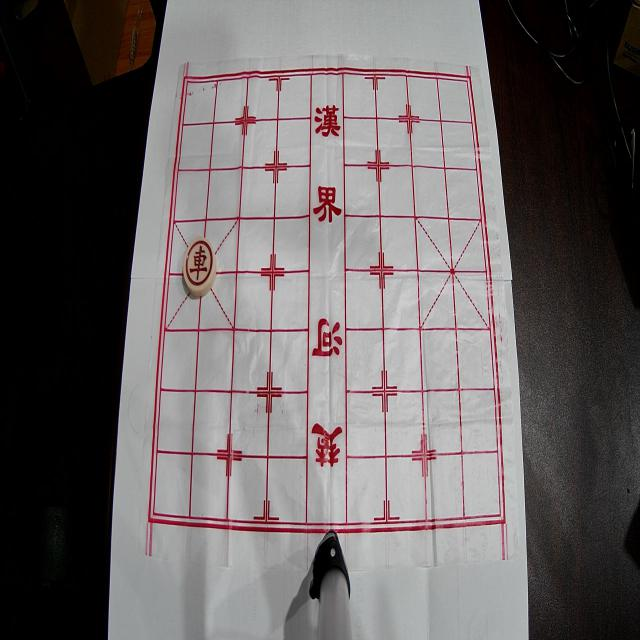red-chariot: (184, 237, 216, 296)
